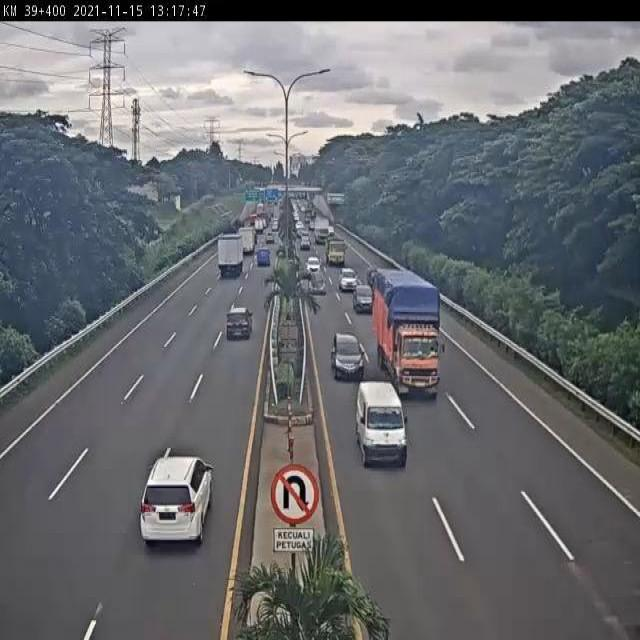car: (137, 455, 213, 545), (332, 331, 364, 380), (225, 304, 254, 339), (352, 283, 373, 313), (338, 268, 359, 292), (310, 272, 330, 295), (305, 256, 322, 276)
small truck: (353, 380, 411, 468)
truck-m-: (370, 268, 445, 396), (218, 239, 244, 281)
